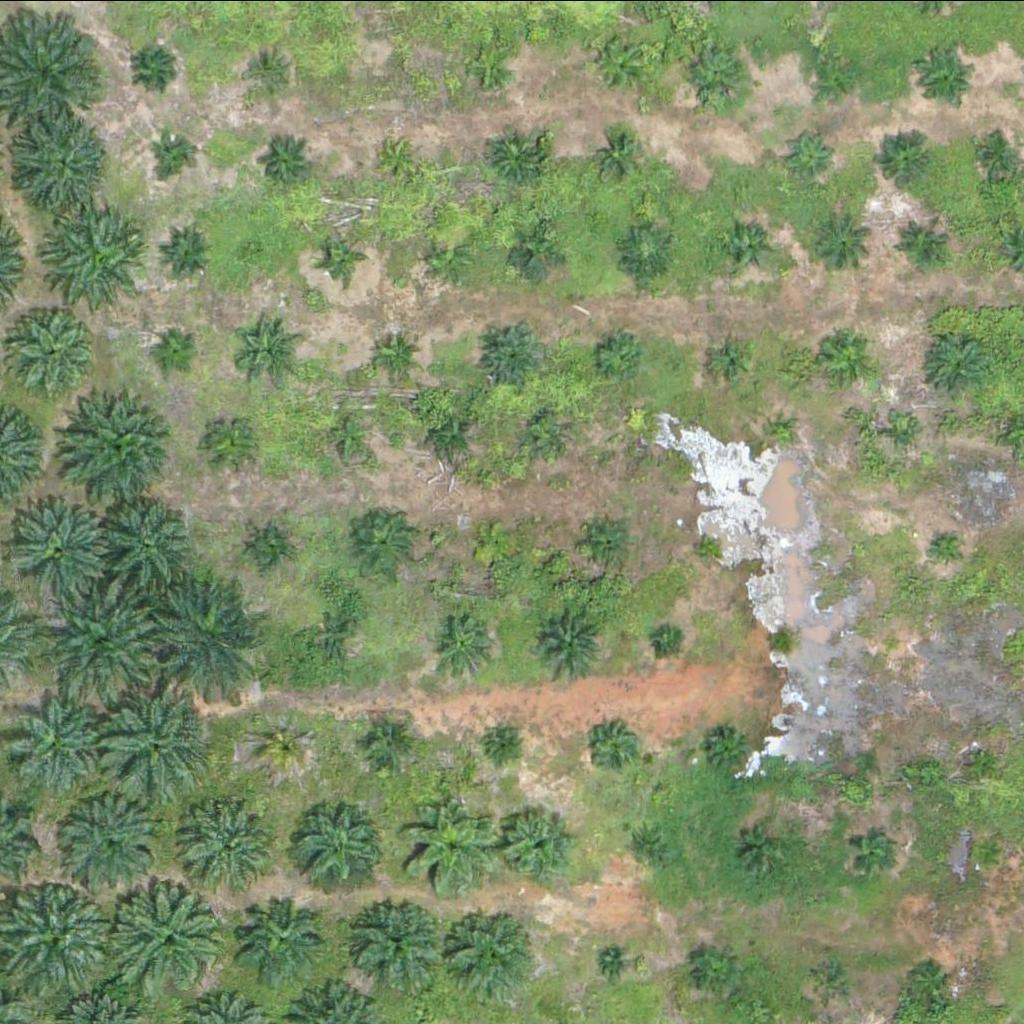Kelapa_Sawit: (35, 579, 161, 704), (146, 571, 272, 696), (112, 878, 237, 1003), (66, 392, 180, 505), (104, 683, 217, 796), (48, 204, 161, 316), (9, 115, 110, 215), (3, 301, 104, 401), (5, 692, 106, 792), (60, 793, 161, 893), (395, 795, 496, 895), (189, 794, 278, 882), (496, 800, 584, 888), (107, 498, 195, 586), (445, 909, 533, 997), (353, 897, 441, 985), (240, 890, 328, 978), (285, 801, 373, 888), (920, 328, 996, 403), (532, 607, 608, 682), (813, 206, 876, 269), (246, 321, 309, 384), (200, 415, 263, 478), (684, 48, 747, 111), (482, 319, 545, 382), (317, 404, 380, 467), (882, 127, 945, 190), (920, 44, 983, 106), (355, 512, 418, 574), (434, 612, 497, 674), (486, 125, 549, 187), (587, 31, 650, 93), (304, 608, 367, 670), (905, 951, 956, 1001), (621, 225, 672, 275), (503, 227, 554, 277), (425, 407, 476, 457), (368, 331, 419, 381), (519, 406, 570, 456), (246, 527, 297, 577), (465, 518, 516, 568), (592, 330, 643, 380), (592, 132, 643, 182), (805, 46, 856, 96), (782, 128, 833, 178), (724, 220, 775, 270), (363, 717, 413, 767), (161, 227, 211, 277), (826, 331, 876, 381), (259, 133, 309, 183), (463, 37, 513, 87), (423, 234, 473, 284), (156, 326, 206, 376), (586, 512, 636, 562), (971, 130, 1021, 180), (896, 217, 946, 267), (709, 335, 759, 385), (592, 723, 642, 773), (706, 720, 756, 770), (845, 823, 895, 873), (738, 823, 788, 873), (624, 816, 674, 866), (694, 943, 744, 993), (263, 716, 313, 766), (131, 48, 169, 86), (377, 140, 415, 178), (322, 237, 360, 275), (157, 132, 195, 169), (255, 55, 293, 92), (384, 43, 422, 80), (971, 834, 1008, 872), (816, 960, 853, 998), (965, 742, 1003, 779), (655, 628, 681, 653), (766, 423, 791, 448), (894, 418, 919, 443), (937, 535, 962, 560), (693, 535, 718, 560), (491, 727, 516, 752), (882, 629, 907, 654), (601, 950, 626, 974)
